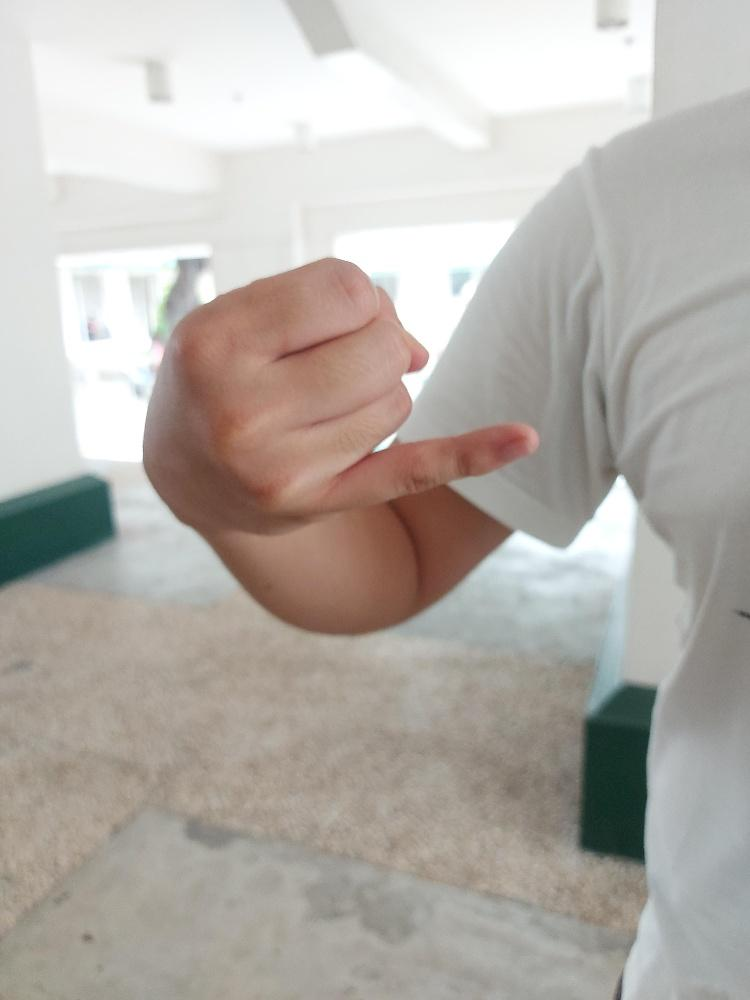j: (139, 256, 544, 537)
